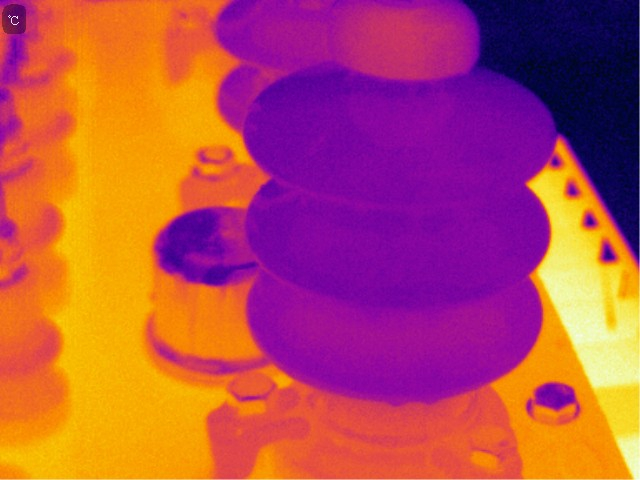Oil: (333, 1, 476, 80), (386, 394, 410, 408), (421, 393, 440, 406)
